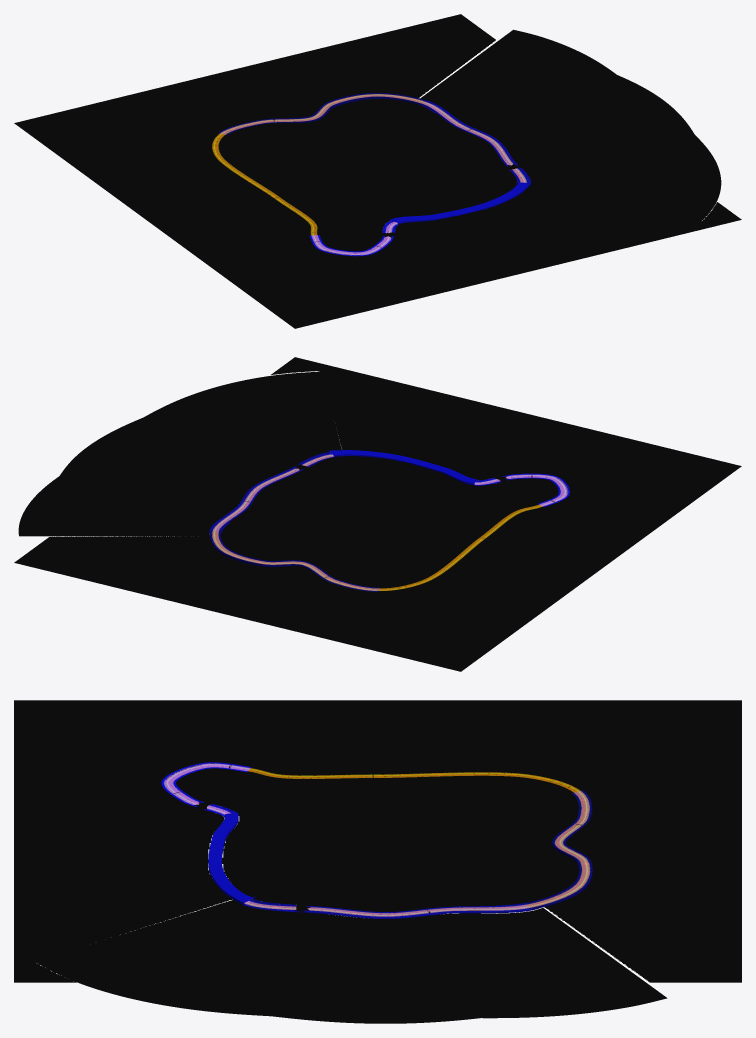
The model's file is city_01_road.glb.
3 views of the same model, one above another, from view 1: azimuth 30°, elevation 25°; view 2: azimuth 150°, elevation 25°; view 3: azimuth 270°, elevation 25° (orthographic). The views are drawn at different scales.
Parts seen in each view (by area): view 1: ground-col, water_00; view 2: ground-col, water_00; view 3: ground-col, water_00.
Part boxes in pixels (x1,y1,x2,y2): ground-col: (14, 14, 741, 328); water_00: (420, 29, 721, 221); ground-col: (14, 357, 741, 671); water_00: (18, 371, 341, 536); ground-col: (14, 700, 741, 982); water_00: (36, 899, 667, 1023).
Size of what is drawn, in the model's own units: 1235 by 8.92 by 1176.
